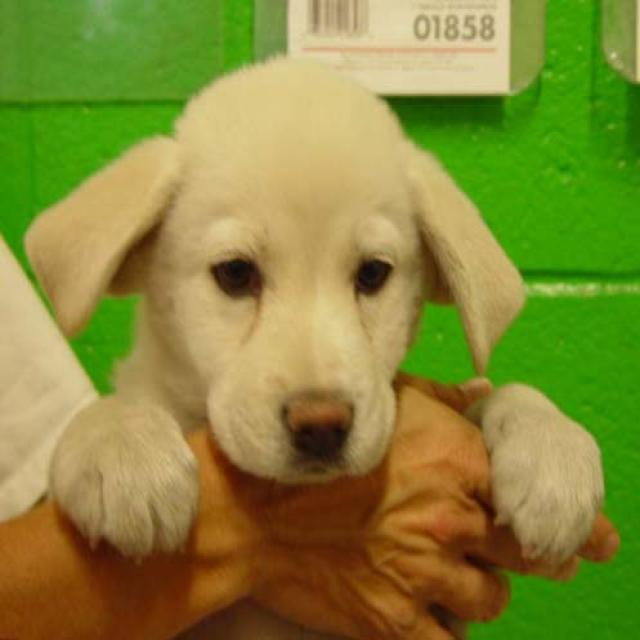Dogs: (0, 52, 619, 638)
